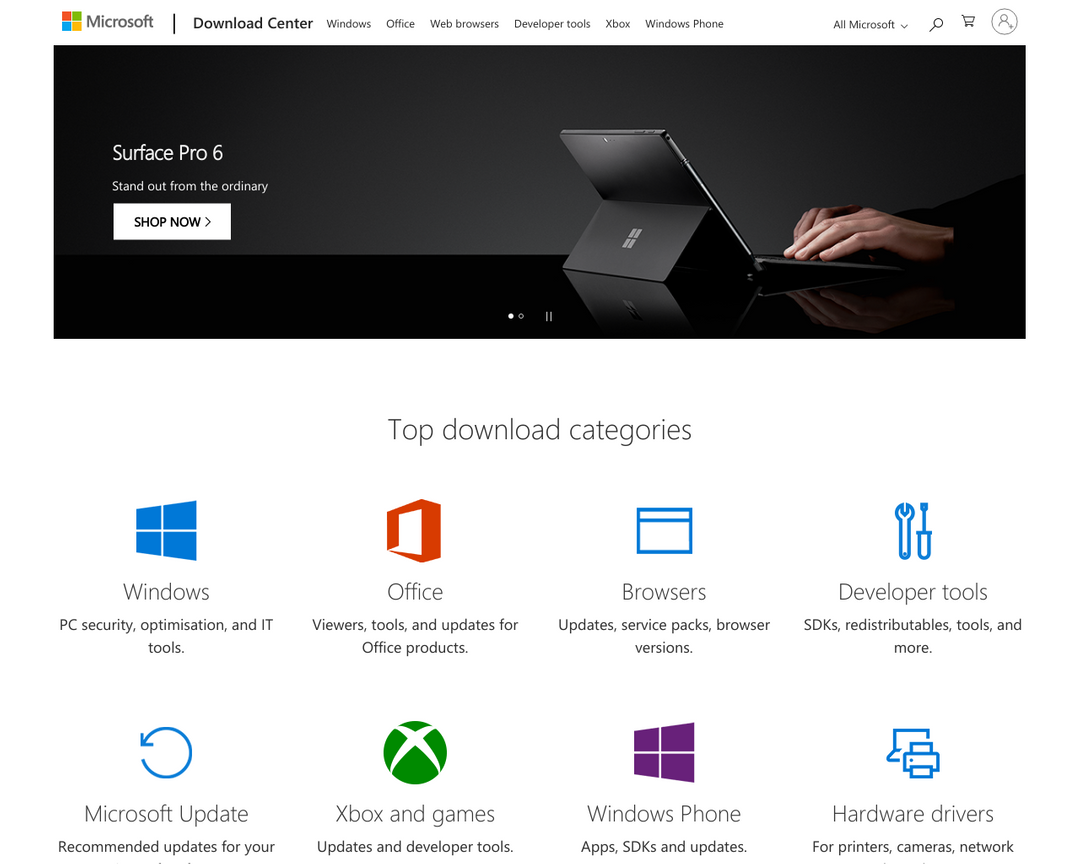Microsoft: (57, 6, 158, 35)
